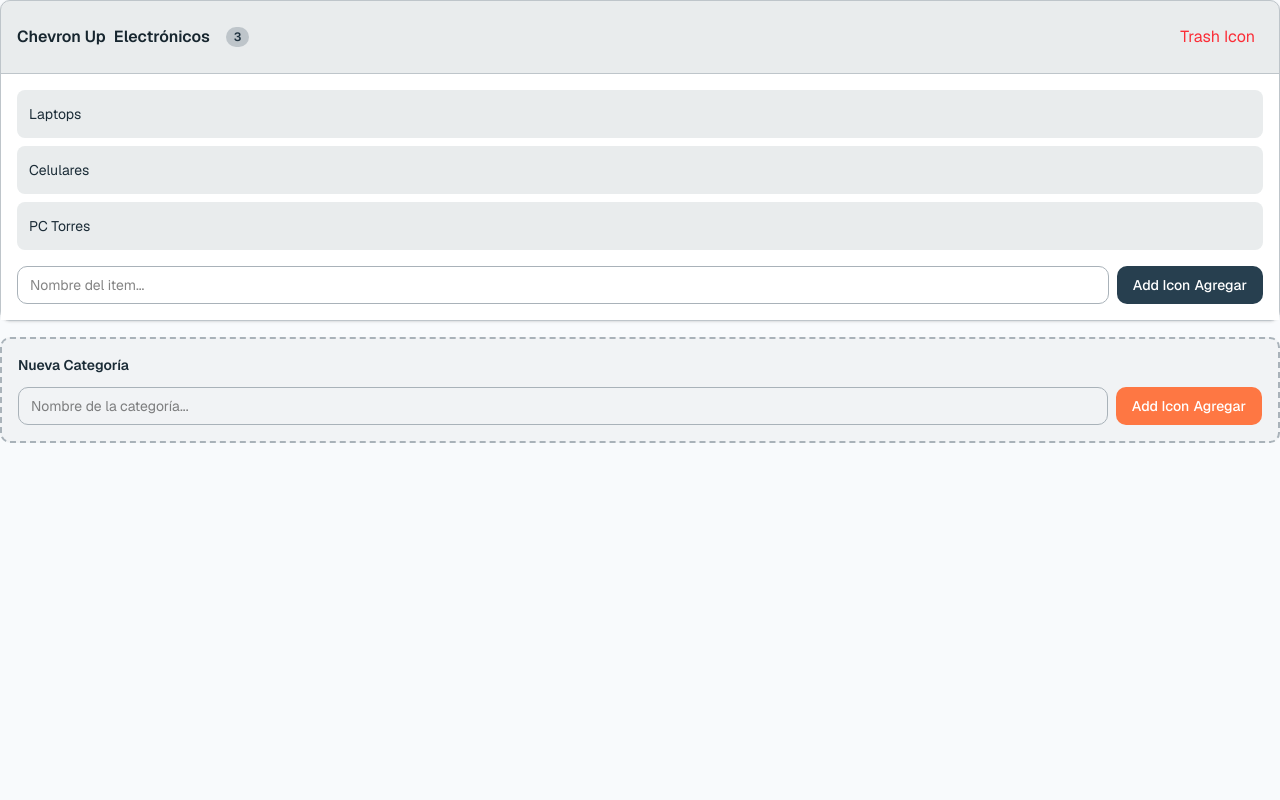
Test: CategoryManager Component › Category Management › should add category on Enter key press
The image size is (1280, 800).
Type "Deportes" into the field with placeholder "Nombre de la categoría..." at (563, 406), box [18, 387, 1108, 425]
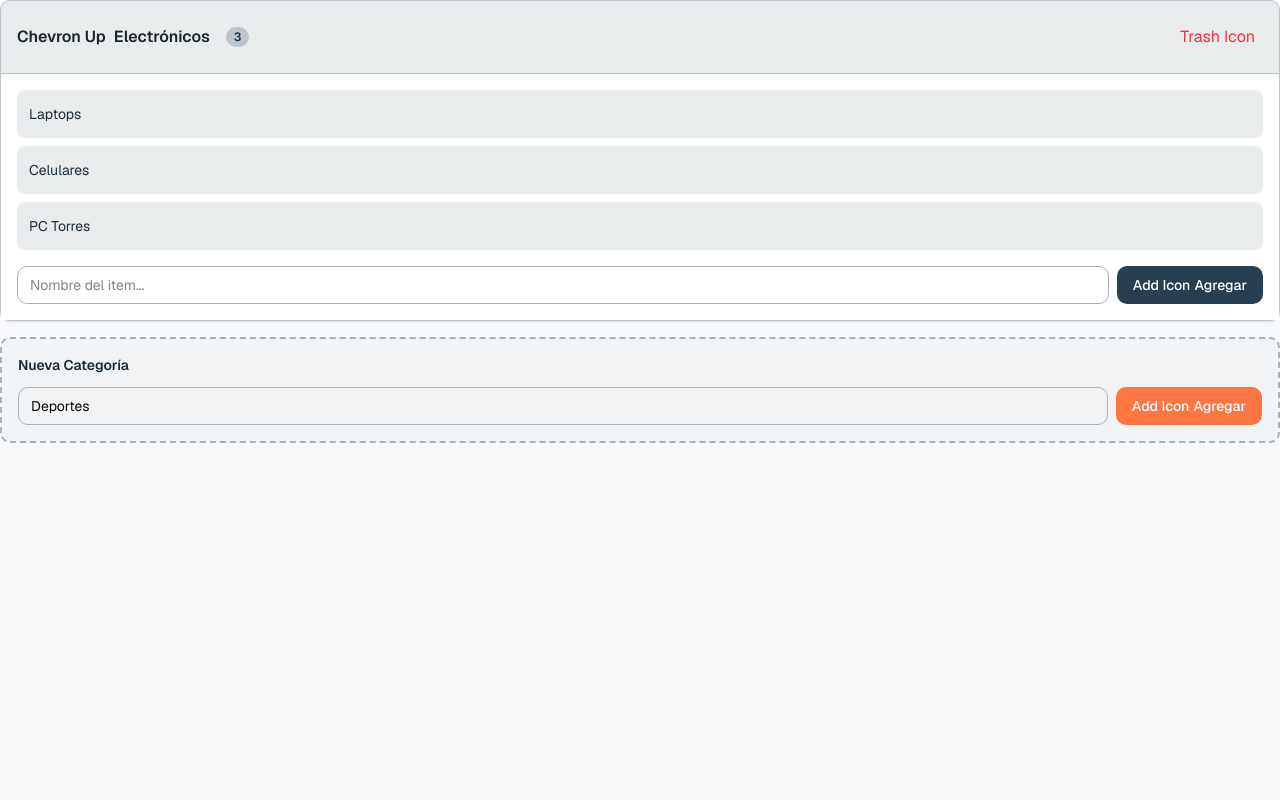
Press Enter in the field with placeholder "Nombre de la categoría...", box [18, 387, 1108, 425]
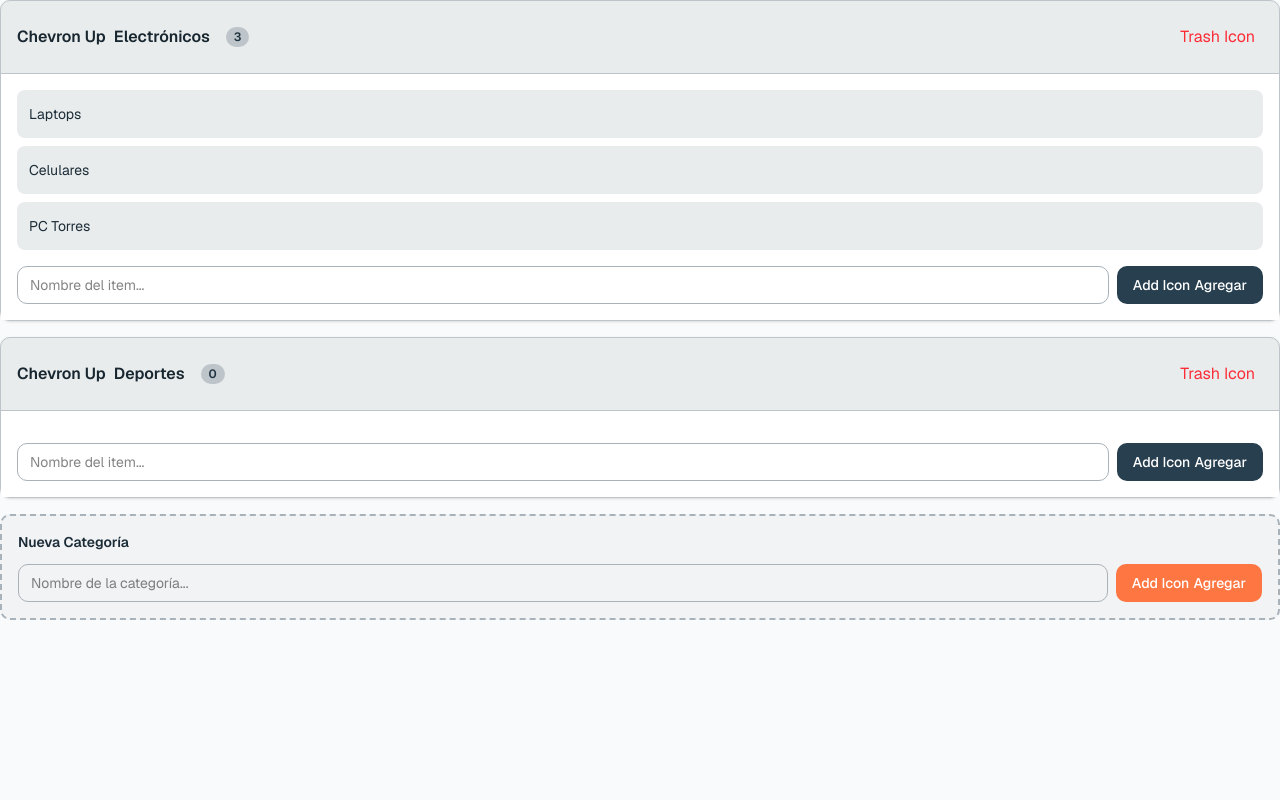
Expected: the text "Deportes" is shown, [114, 362, 184, 386]
